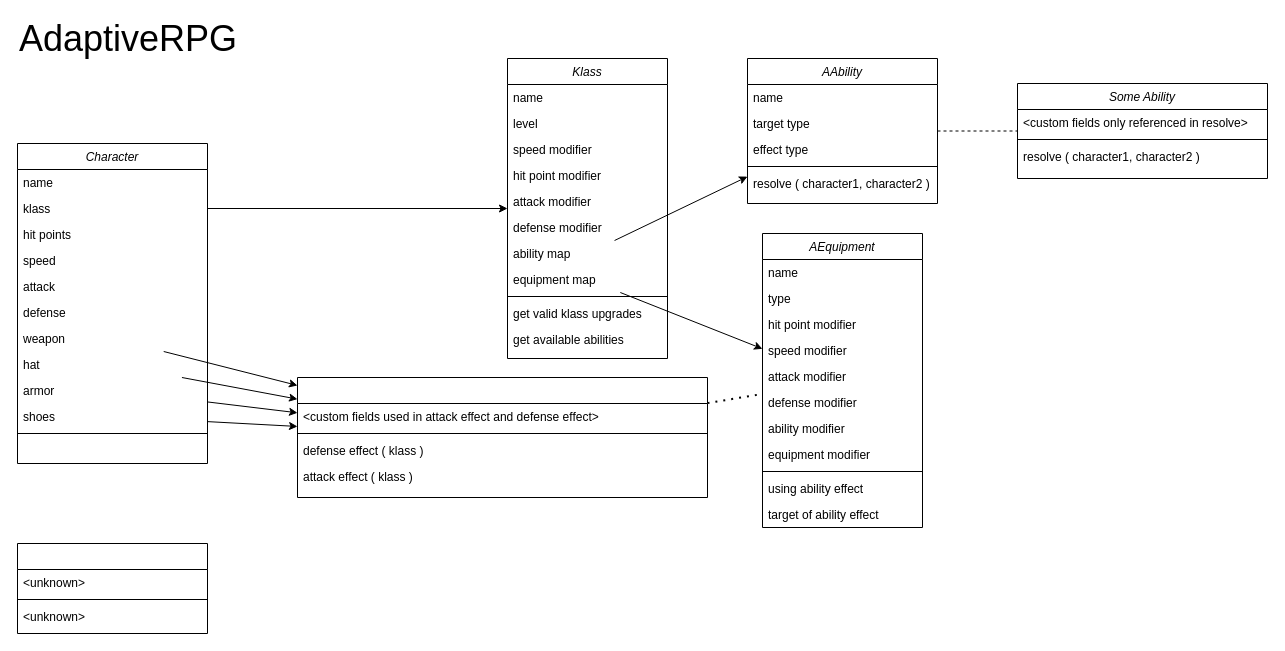
The diagram is 1285 pixels wide and 651 high, and some of its shapes have lost their labels. The box of each missing label's shape, as (x1, y1, x2, y2) in pixels:
Hat | Armor | Weapon | Shoes: (296, 376, 708, 498)
XMLParser: (16, 542, 208, 634)
